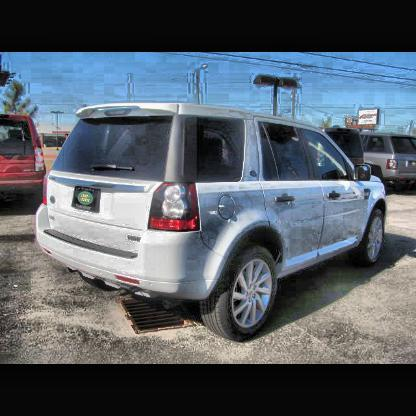Land Rover LR2 SUV 2012: (36, 105, 388, 341)
